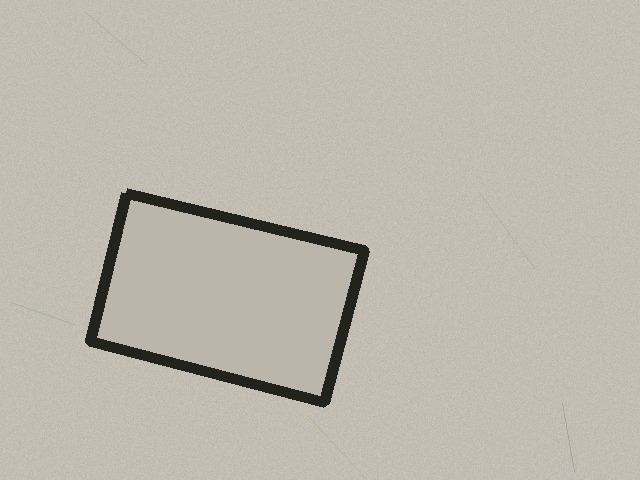parking_area: (90, 193, 364, 402)
